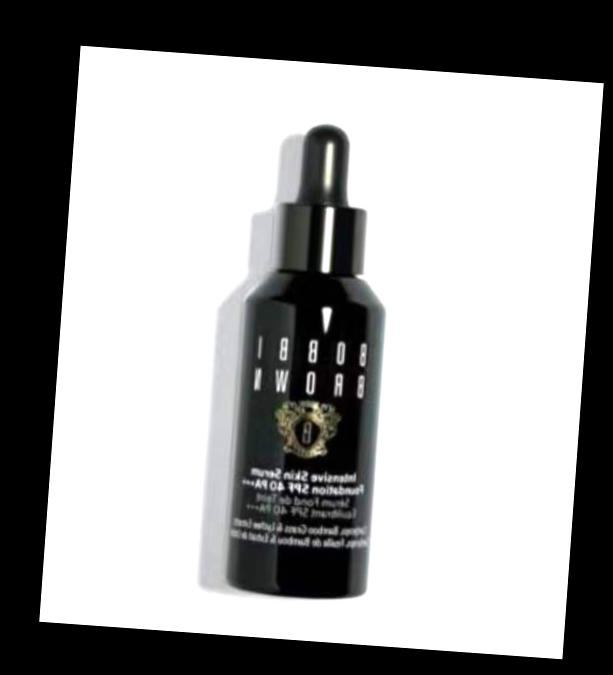cosmetic: (227, 119, 403, 593)
